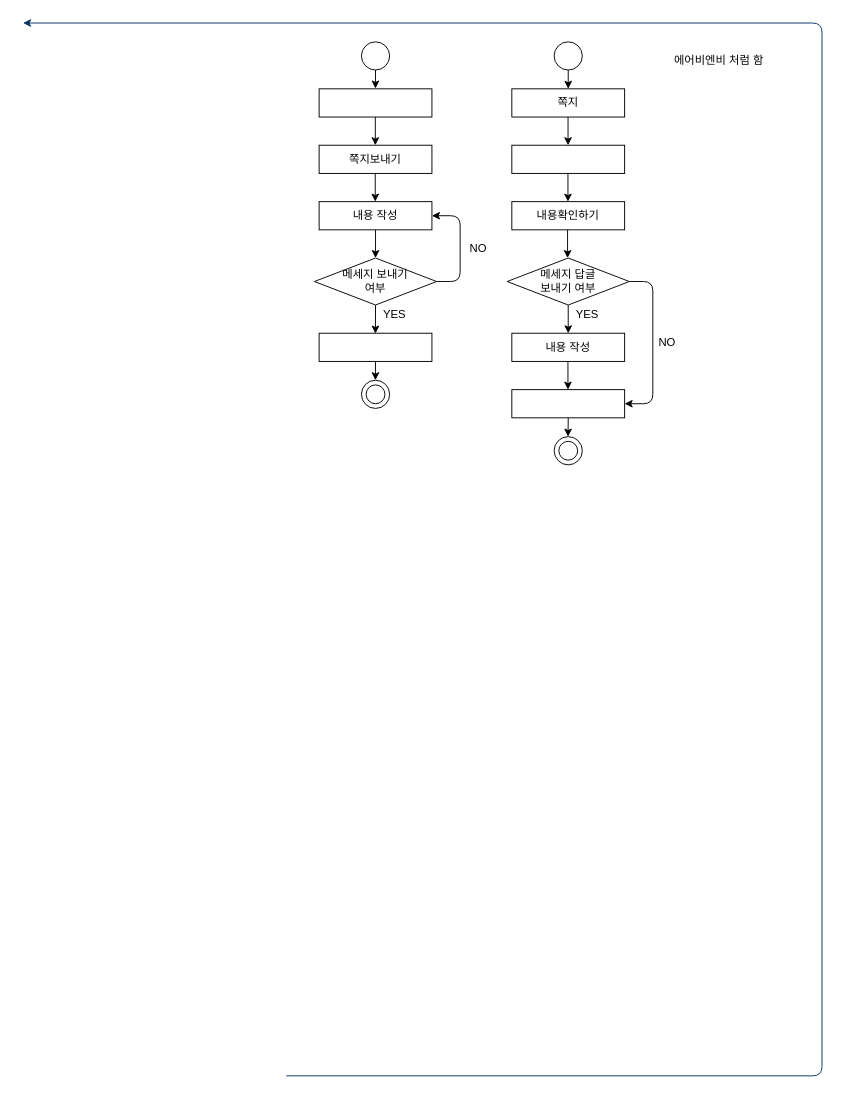
Image size: 846x1100. Some labels were removed from this diagram. Each missing label, with the centre of its shape:
메세지 보내기 완료: (375,346)
메세지 확인 완료: (568,403)
숙소정보: (375,102)
쪽지 목록: (568,158)
